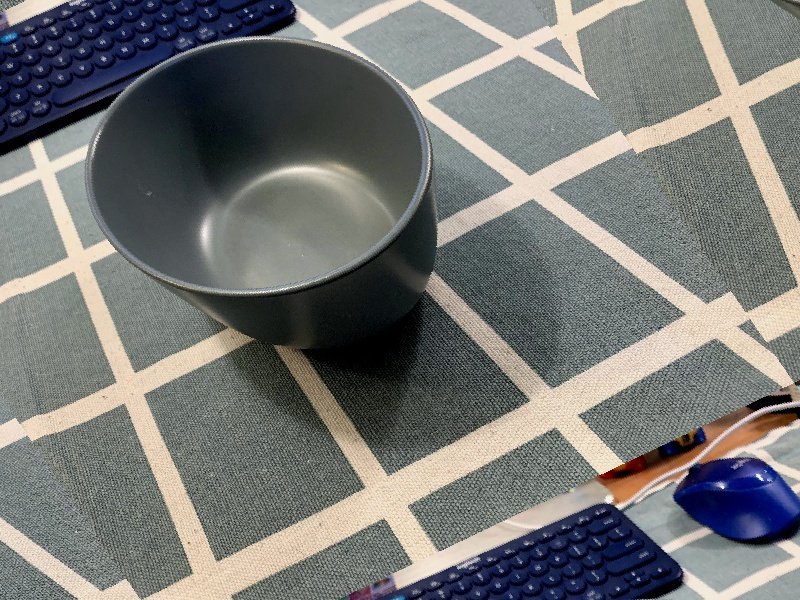bowl_big: (21, 0, 537, 416)
